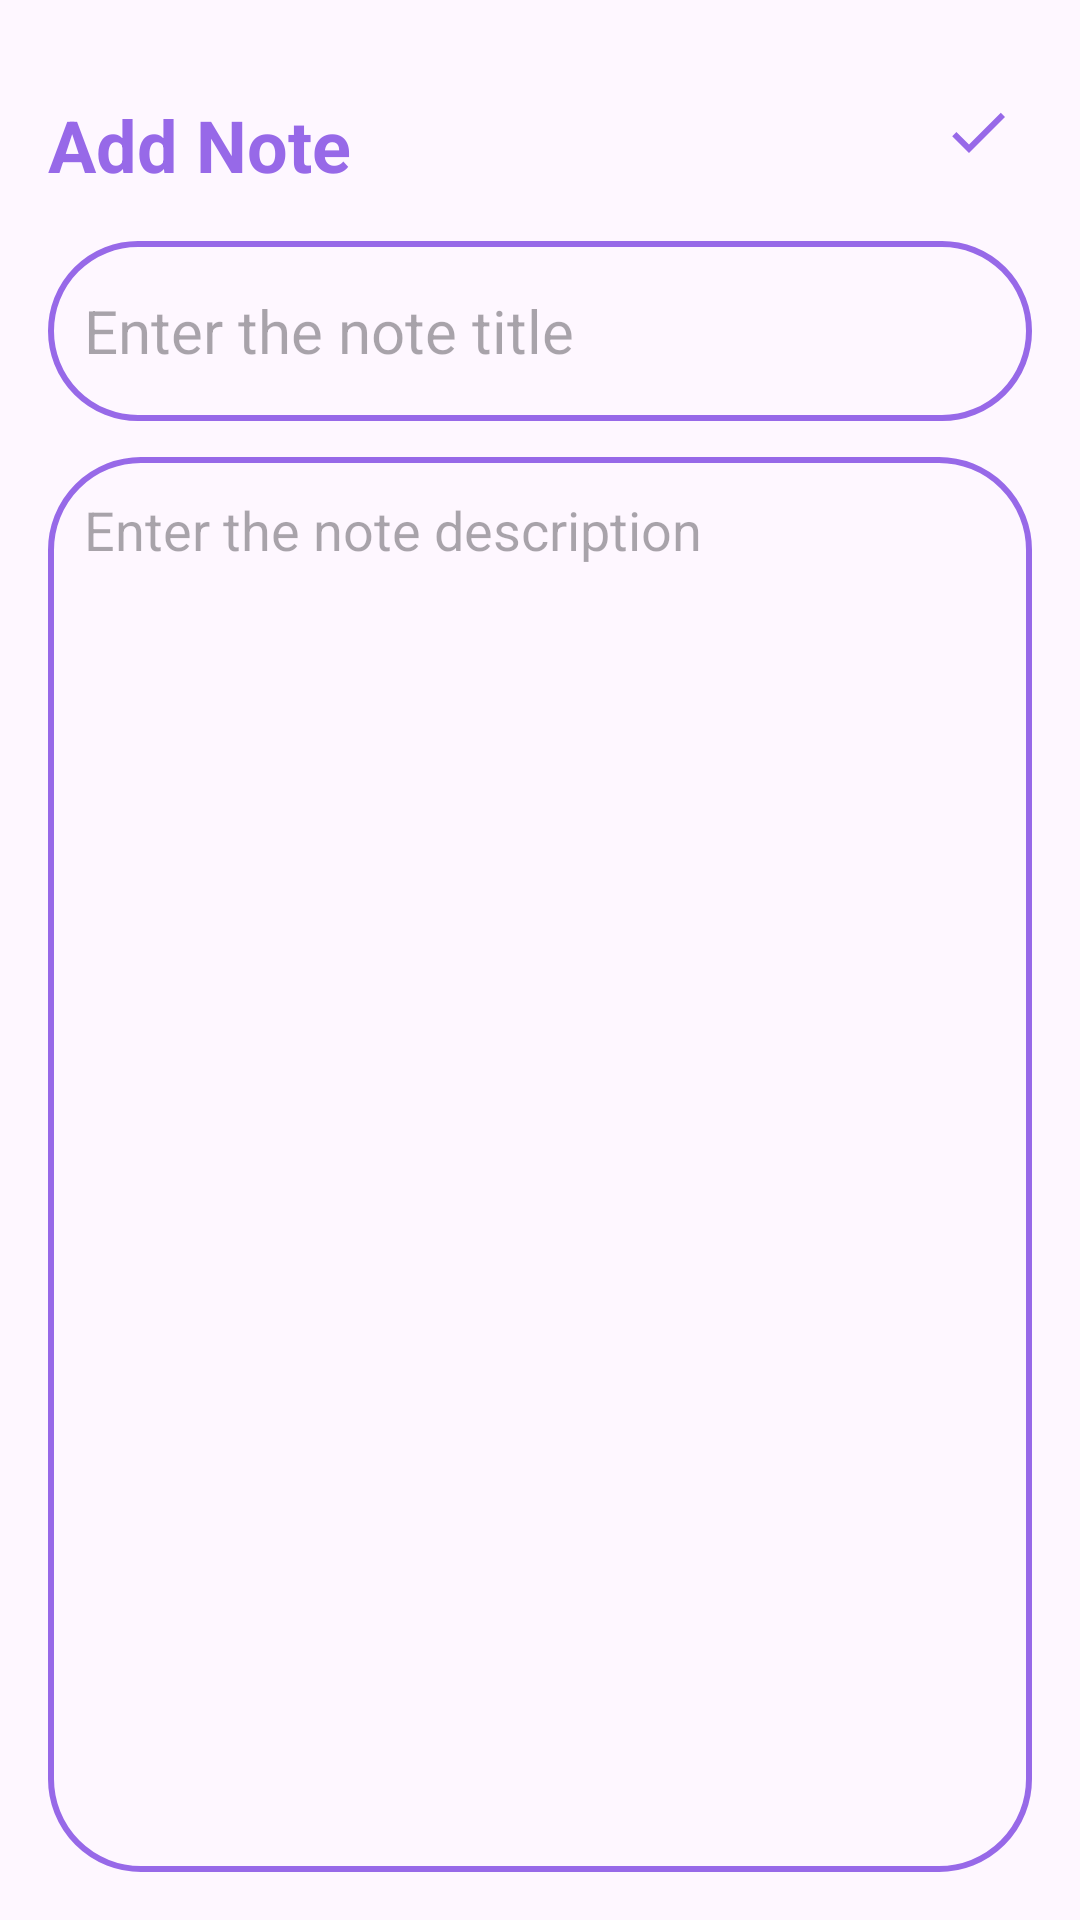

Icons on this 1080px×1920px Android screen, each with the point to tap as point (x, y):
done: point (978, 133)
